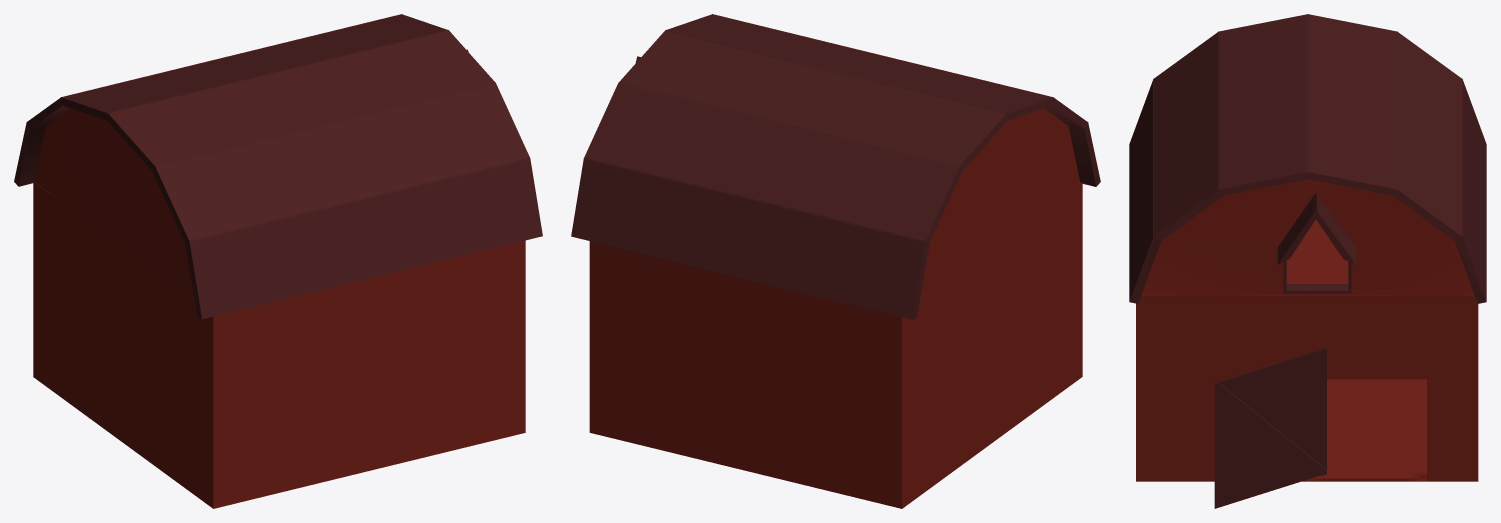
File: ScheuneNeu.FBX
3 views of the same model, side by side, from view 1: azimuth 30°, elevation 25°; view 2: azimuth 150°, elevation 25°; view 3: azimuth 270°, elevation 25° (orthographic). The views are drawn at different scales.
Visible parts, largest first — view 1: ScheuneBody; view 2: ScheuneBody; view 3: ScheuneBody, Tuer.
Part boxes in pixels (<box>): ScheuneBody: <box>14,14,542,508</box>; ScheuneBody: <box>571,14,1100,508</box>; ScheuneBody: <box>1129,14,1486,481</box>; Tuer: <box>1214,347,1326,508</box>.
Bounding box in the file's own units: 117 × 110 × 104.
